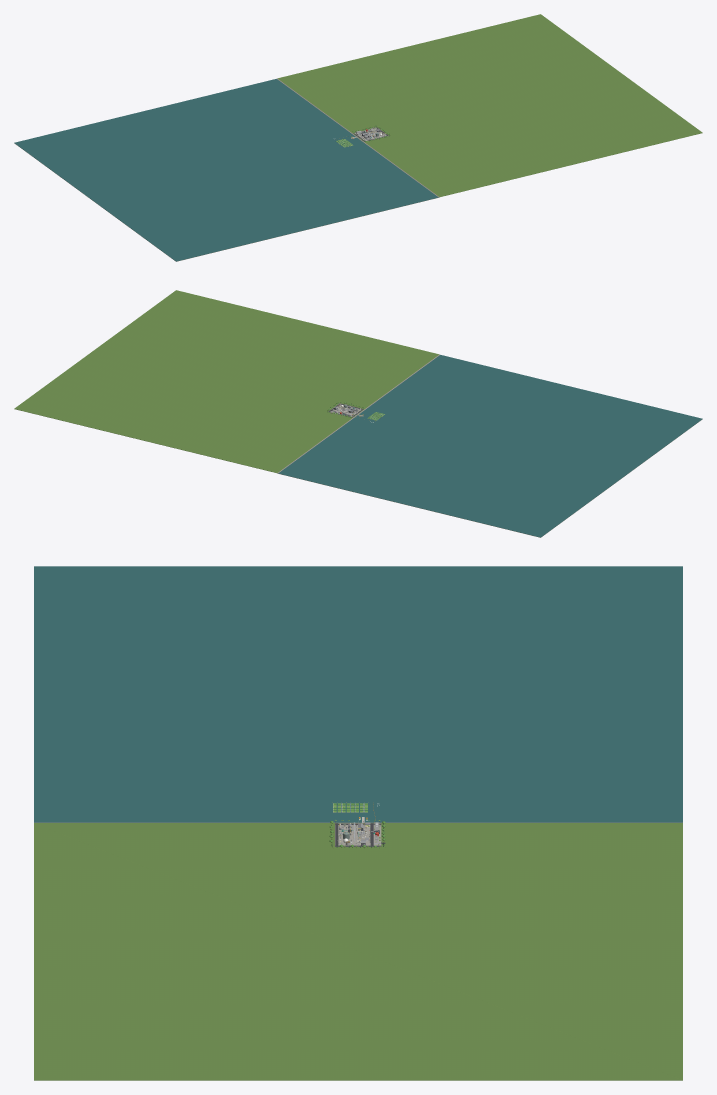
3 renders of one model, top to bottom at view 1: azimuth 30°, elevation 25°; view 2: azimuth 150°, elevation 25°; view 3: azimuth 270°, elevation 25°, orthographic. The views are drawn at different scales.
Parts seen in each view (by area): view 1: 00 Site, Jalan & Pagar__air_waduk, 00 Site, Jalan & Pagar__rumput; view 2: 00 Site, Jalan & Pagar__air_waduk, 00 Site, Jalan & Pagar__rumput; view 3: 00 Site, Jalan & Pagar__air_waduk, 00 Site, Jalan & Pagar__rumput.
Part boxes in pixels (box(x1,y1,x2,y2)): 00 Site, Jalan & Pagar__air_waduk: box(14, 79, 438, 261); 00 Site, Jalan & Pagar__rumput: box(278, 14, 702, 196); 00 Site, Jalan & Pagar__air_waduk: box(278, 355, 702, 537); 00 Site, Jalan & Pagar__rumput: box(14, 290, 438, 472); 00 Site, Jalan & Pagar__air_waduk: box(34, 566, 682, 822); 00 Site, Jalan & Pagar__rumput: box(34, 823, 682, 1080).
Size of the model in its own units: 3000 by 22.89 by 1600.
70 materials, 23 textured.
